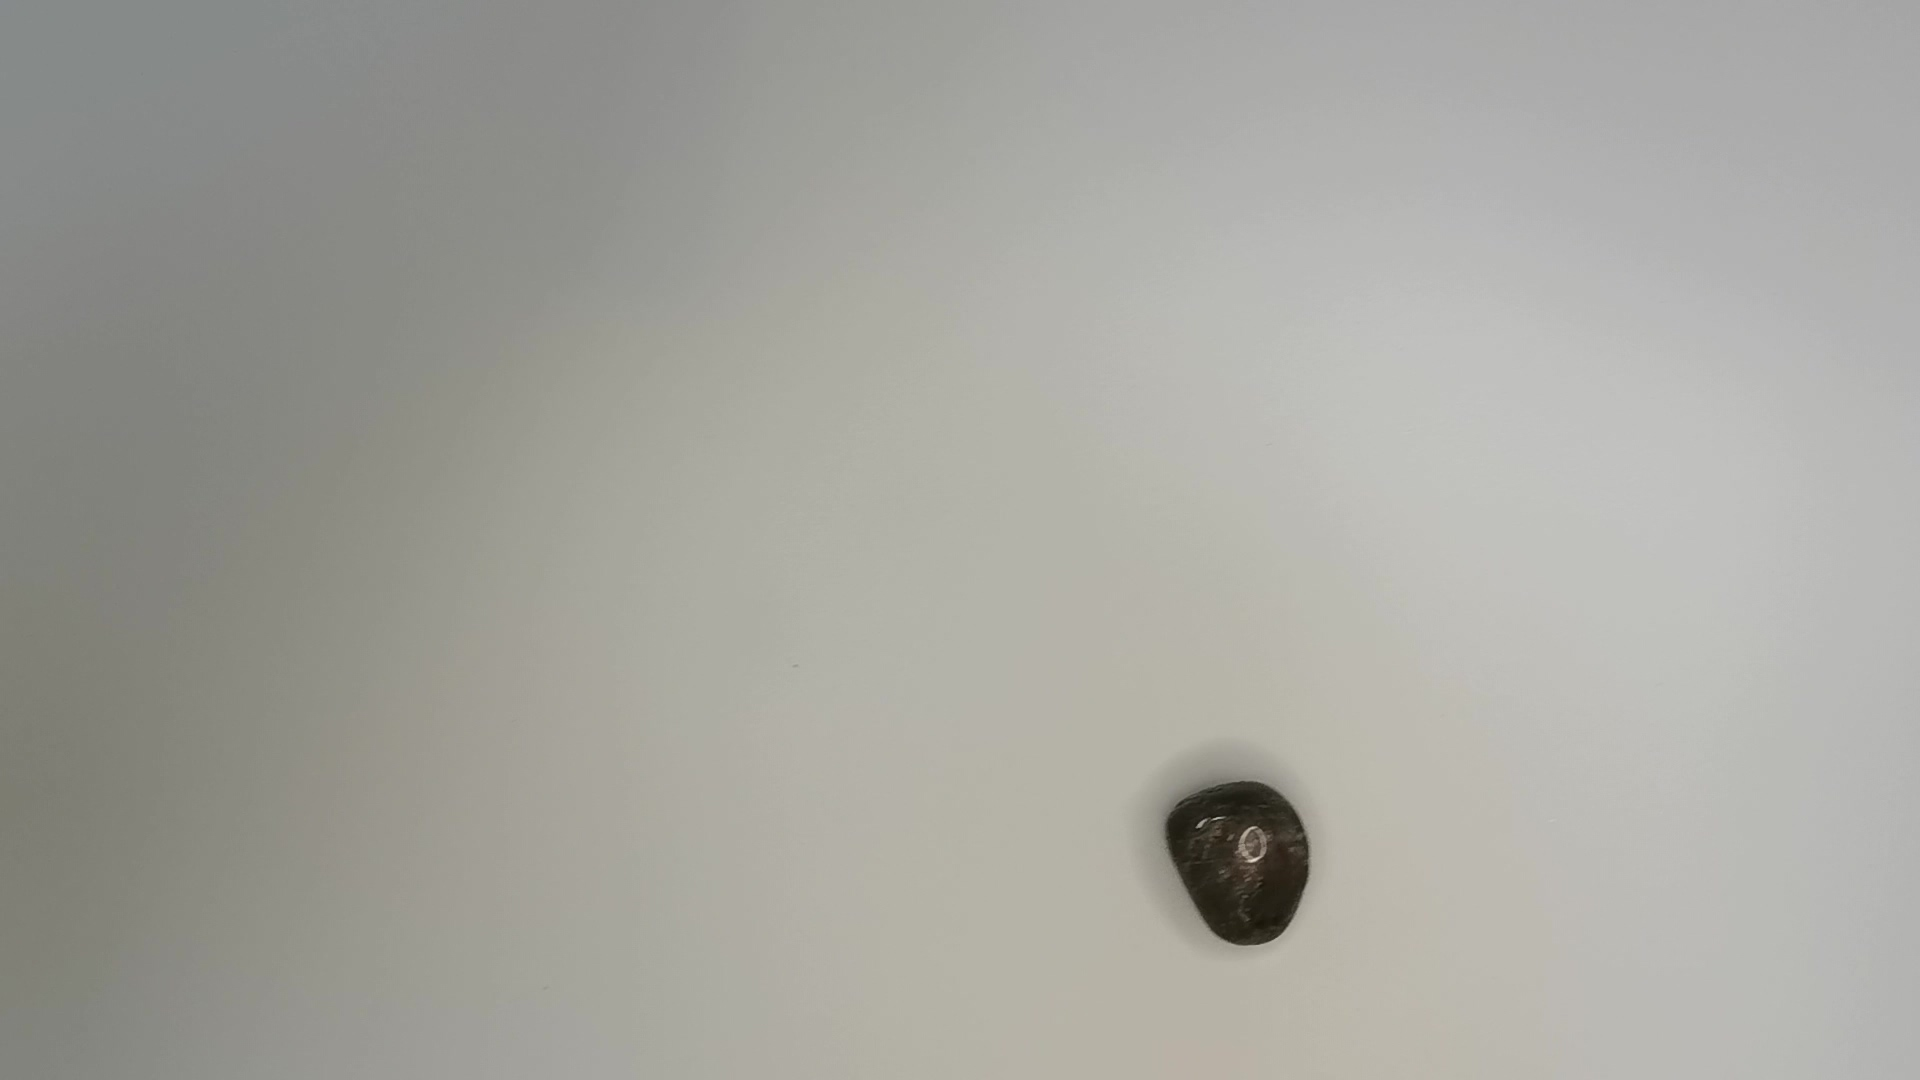ceramic: (1162, 775, 1317, 949)
